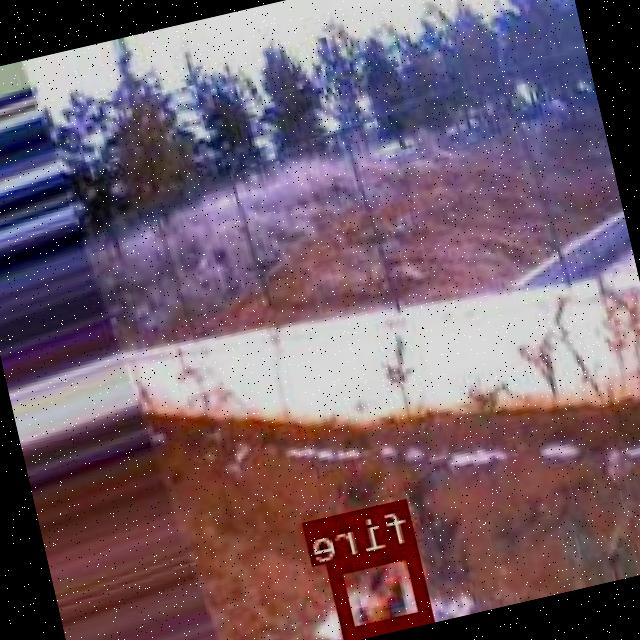fire: (331, 542, 434, 636)
